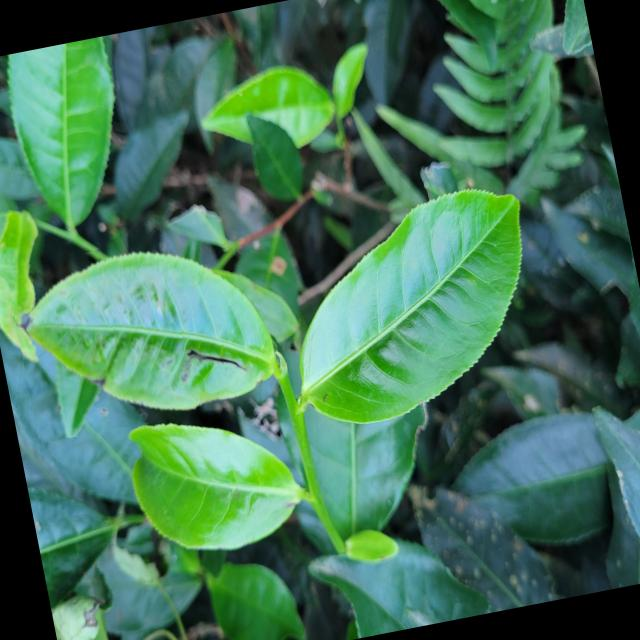Catagory A(1-2 days): (3, 215, 296, 444)
